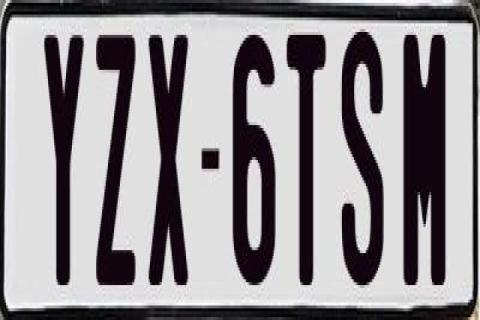0: (233, 27, 279, 286)
M: (401, 27, 443, 280)
S: (342, 26, 390, 294)
T: (286, 32, 324, 291)
X: (150, 26, 194, 288)
Y: (42, 26, 86, 291)
Z: (95, 32, 137, 285)
